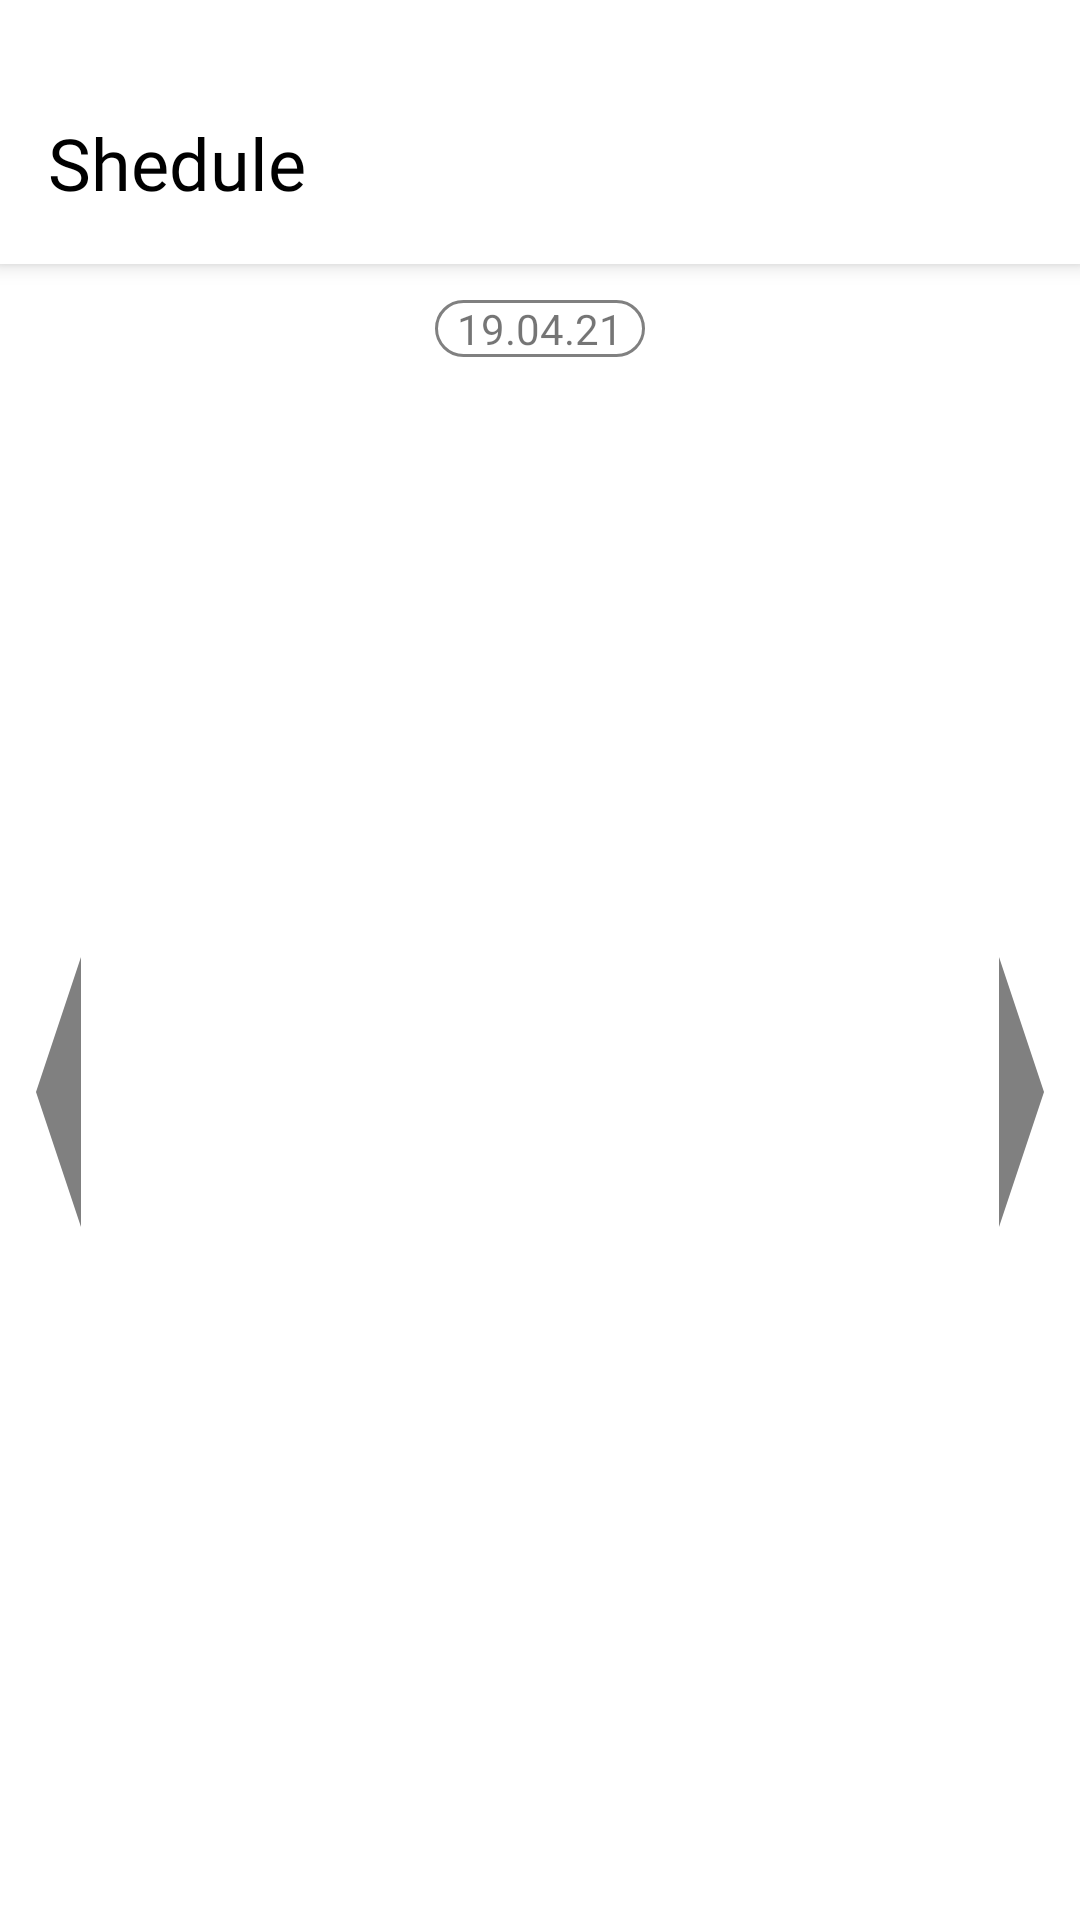

Screen size 1080*1920. Icon name, then its box in pixels as (x1, y1, x2, y2):
triangle left shape: (36, 958, 81, 1226)
triangle right shape: (999, 958, 1044, 1226)
